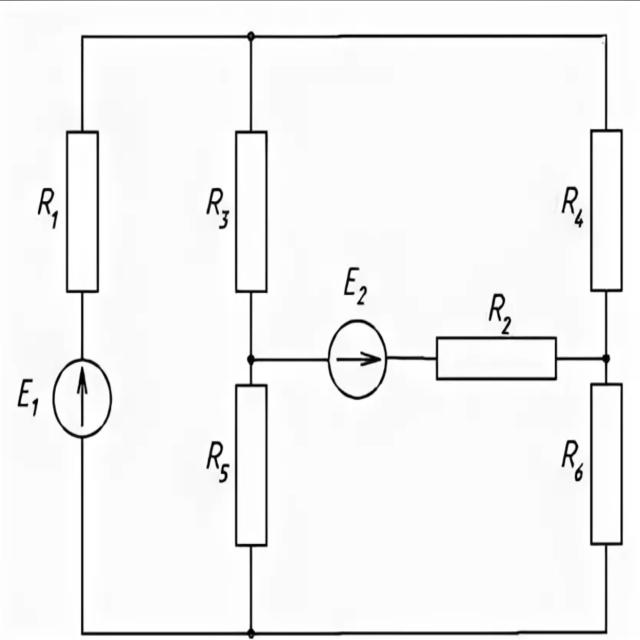net: (77, 430, 90, 640), (601, 537, 612, 640), (246, 540, 257, 640), (77, 28, 86, 141), (383, 349, 440, 365), (78, 286, 88, 364)
net_node: (78, 624, 616, 640), (78, 30, 610, 44), (243, 27, 260, 136), (244, 351, 333, 369), (246, 286, 258, 392), (603, 287, 614, 387), (552, 353, 616, 364)
res: (231, 127, 272, 297), (432, 332, 562, 385), (588, 128, 628, 294), (231, 380, 270, 549), (62, 126, 100, 297), (589, 381, 626, 547)
source: (49, 356, 115, 442), (325, 317, 389, 402)
